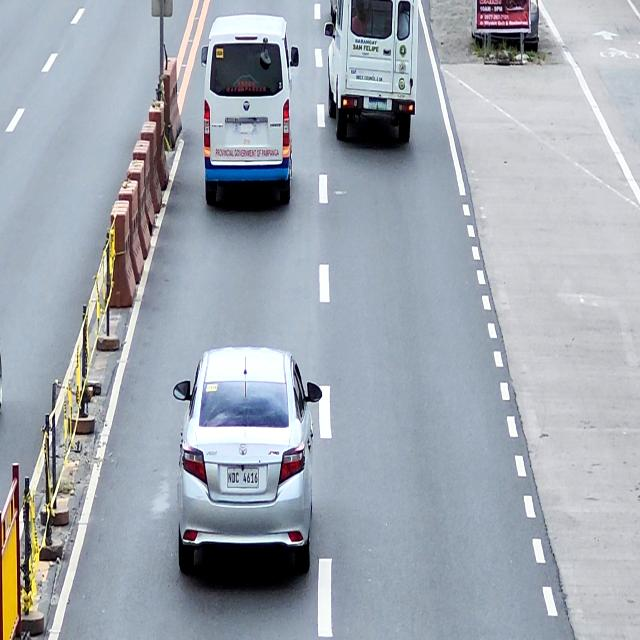Car: (173, 346, 323, 574), (200, 14, 299, 206), (324, 0, 419, 148)
License-Plate: (228, 468, 258, 487), (369, 97, 387, 112)
